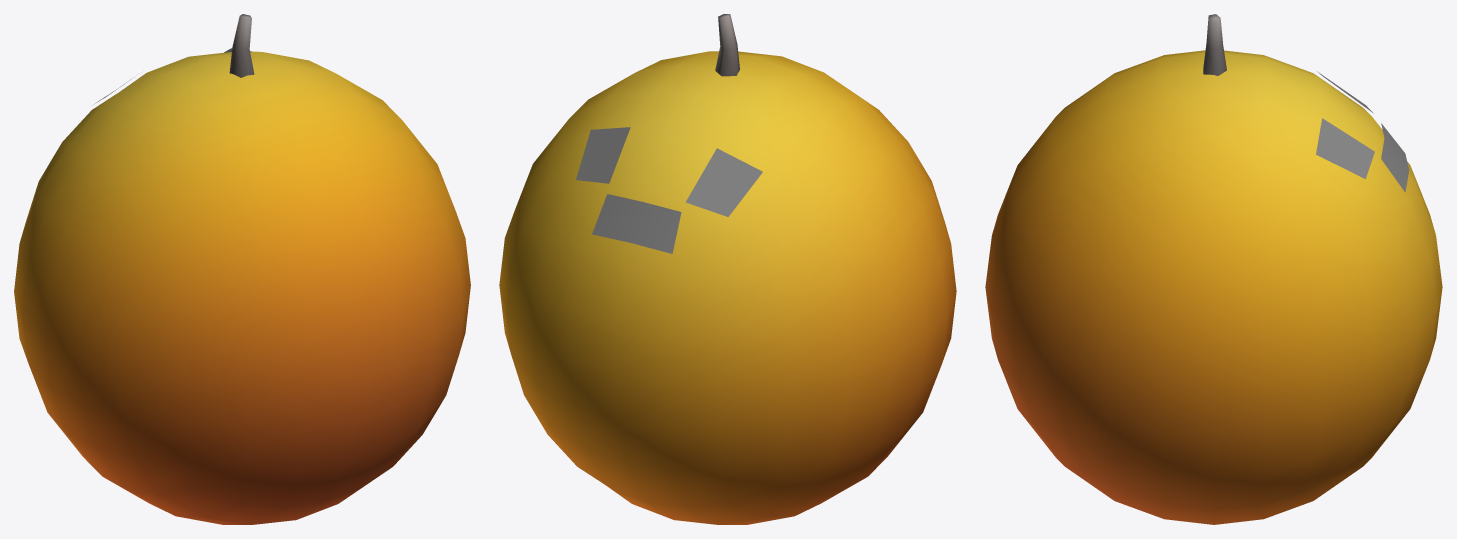
File: melon_smile.fbx
3 renders of one model, left to right at view 1: azimuth 30°, elevation 25°; view 2: azimuth 150°, elevation 25°; view 3: azimuth 270°, elevation 25°, orthographic.
Parts seen in each view (by area): view 1: melon_smile; view 2: melon_smile; view 3: melon_smile.
Part boxes in pixels (x1,y1,x2,y2): melon_smile: (14, 14, 470, 524); melon_smile: (499, 14, 956, 524); melon_smile: (985, 14, 1442, 524).
Size of the model in its own units: 88.84 by 88.84 by 105.
2 materials, 1 textured.
